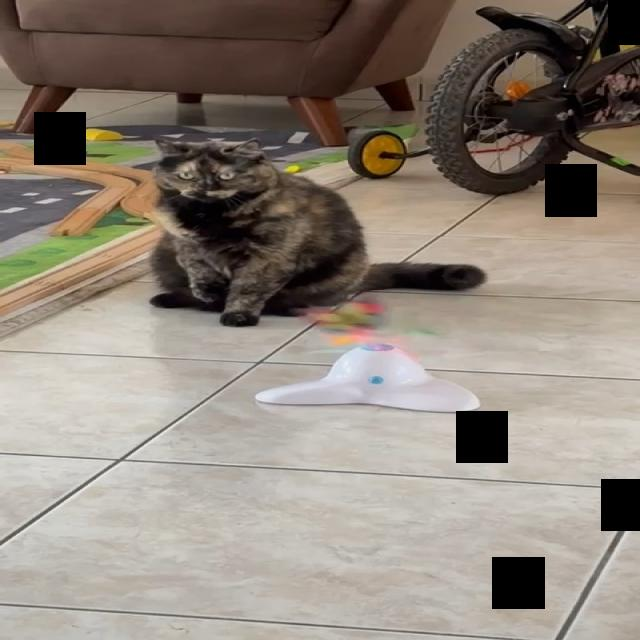authorized: (146, 136, 486, 326)
